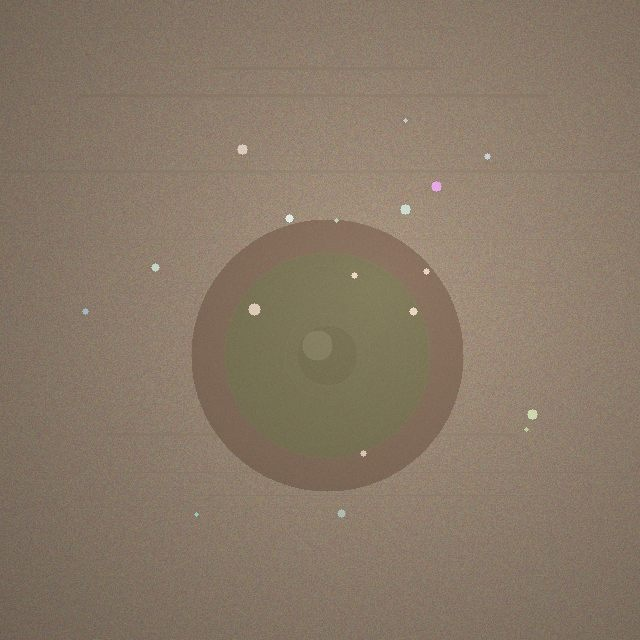overburn: (191, 219, 463, 491)
